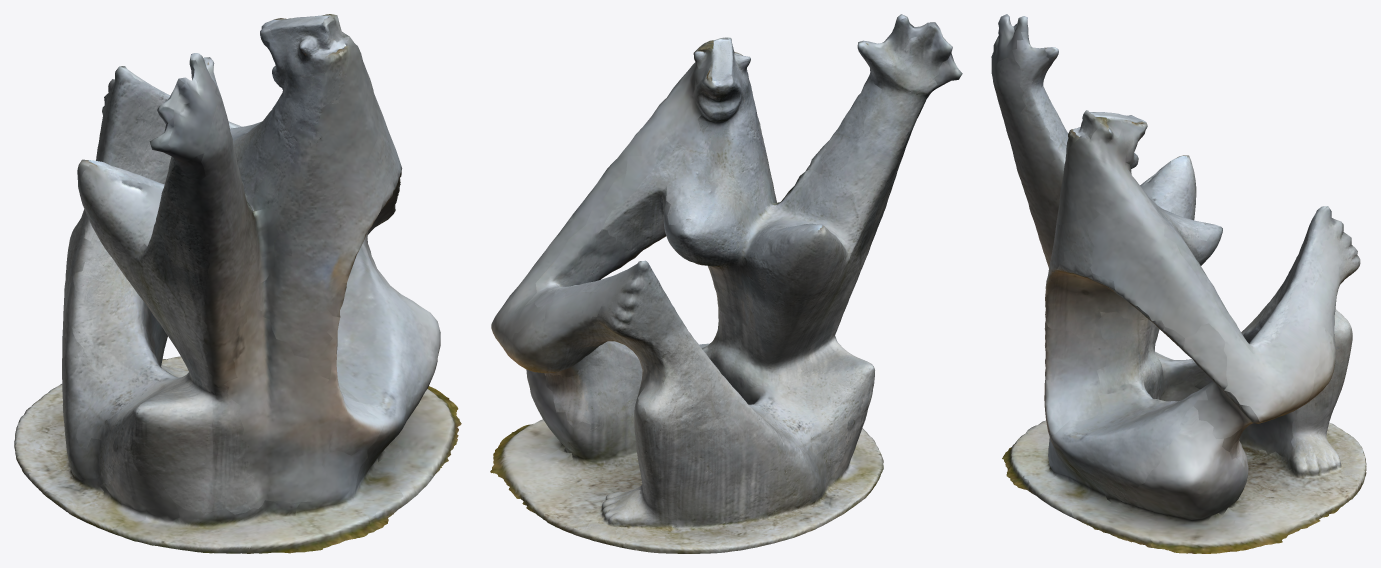
The model's file is klyfurstyttan_an_gras.obj.
3 views of the same model, side by side, from view 1: azimuth 30°, elevation 25°; view 2: azimuth 150°, elevation 25°; view 3: azimuth 270°, elevation 25° (orthographic). The views are drawn at different scales.
Parts seen in each view (by area): view 1: Object; view 2: Object; view 3: Object.
Boxes of the visible parts, left/top/right/bottom form: Object: left=14, top=14, right=461, bottom=553; Object: left=490, top=14, right=962, bottom=553; Object: left=991, top=14, right=1366, bottom=553.
Size of the model in its own units: 3.35 by 3.91 by 3.32.
